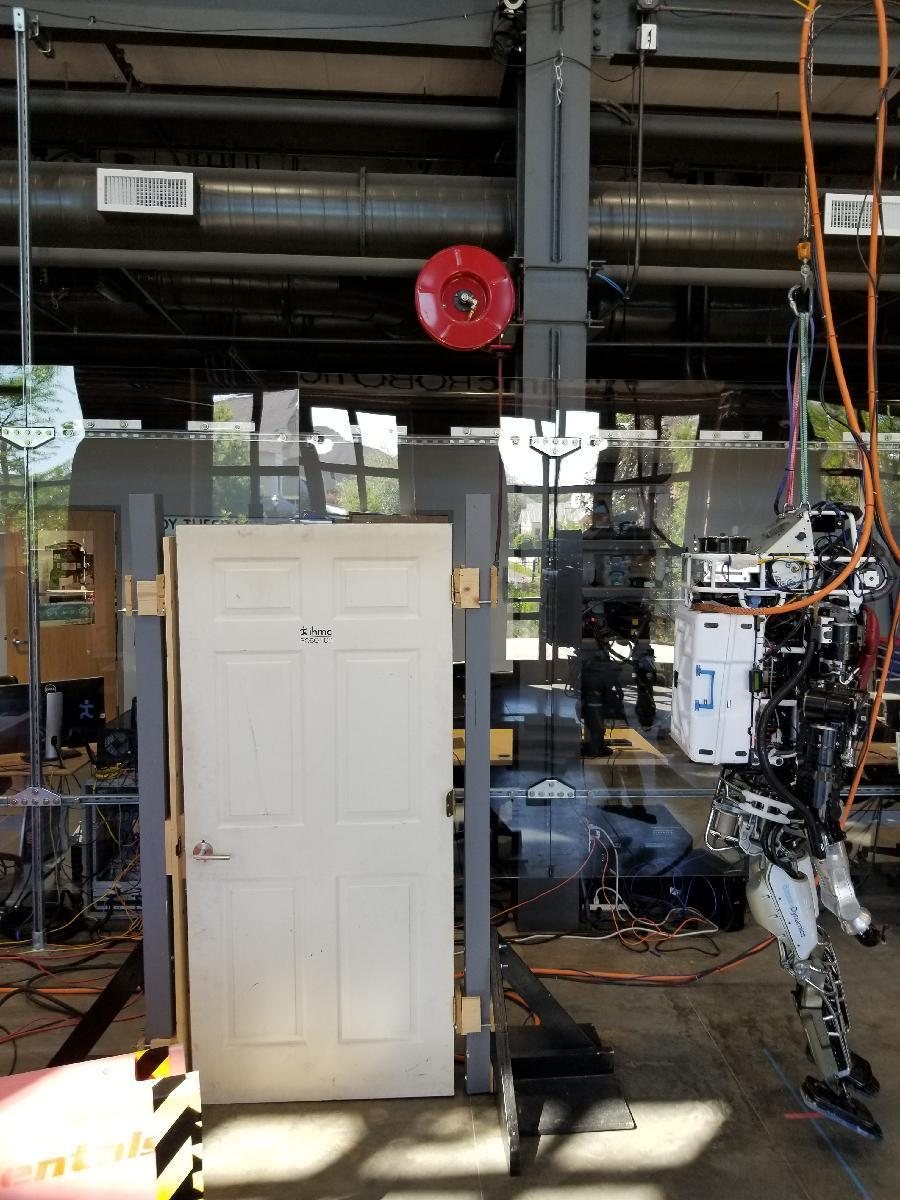door: (183, 528, 458, 1101)
handle: (192, 838, 237, 865)
